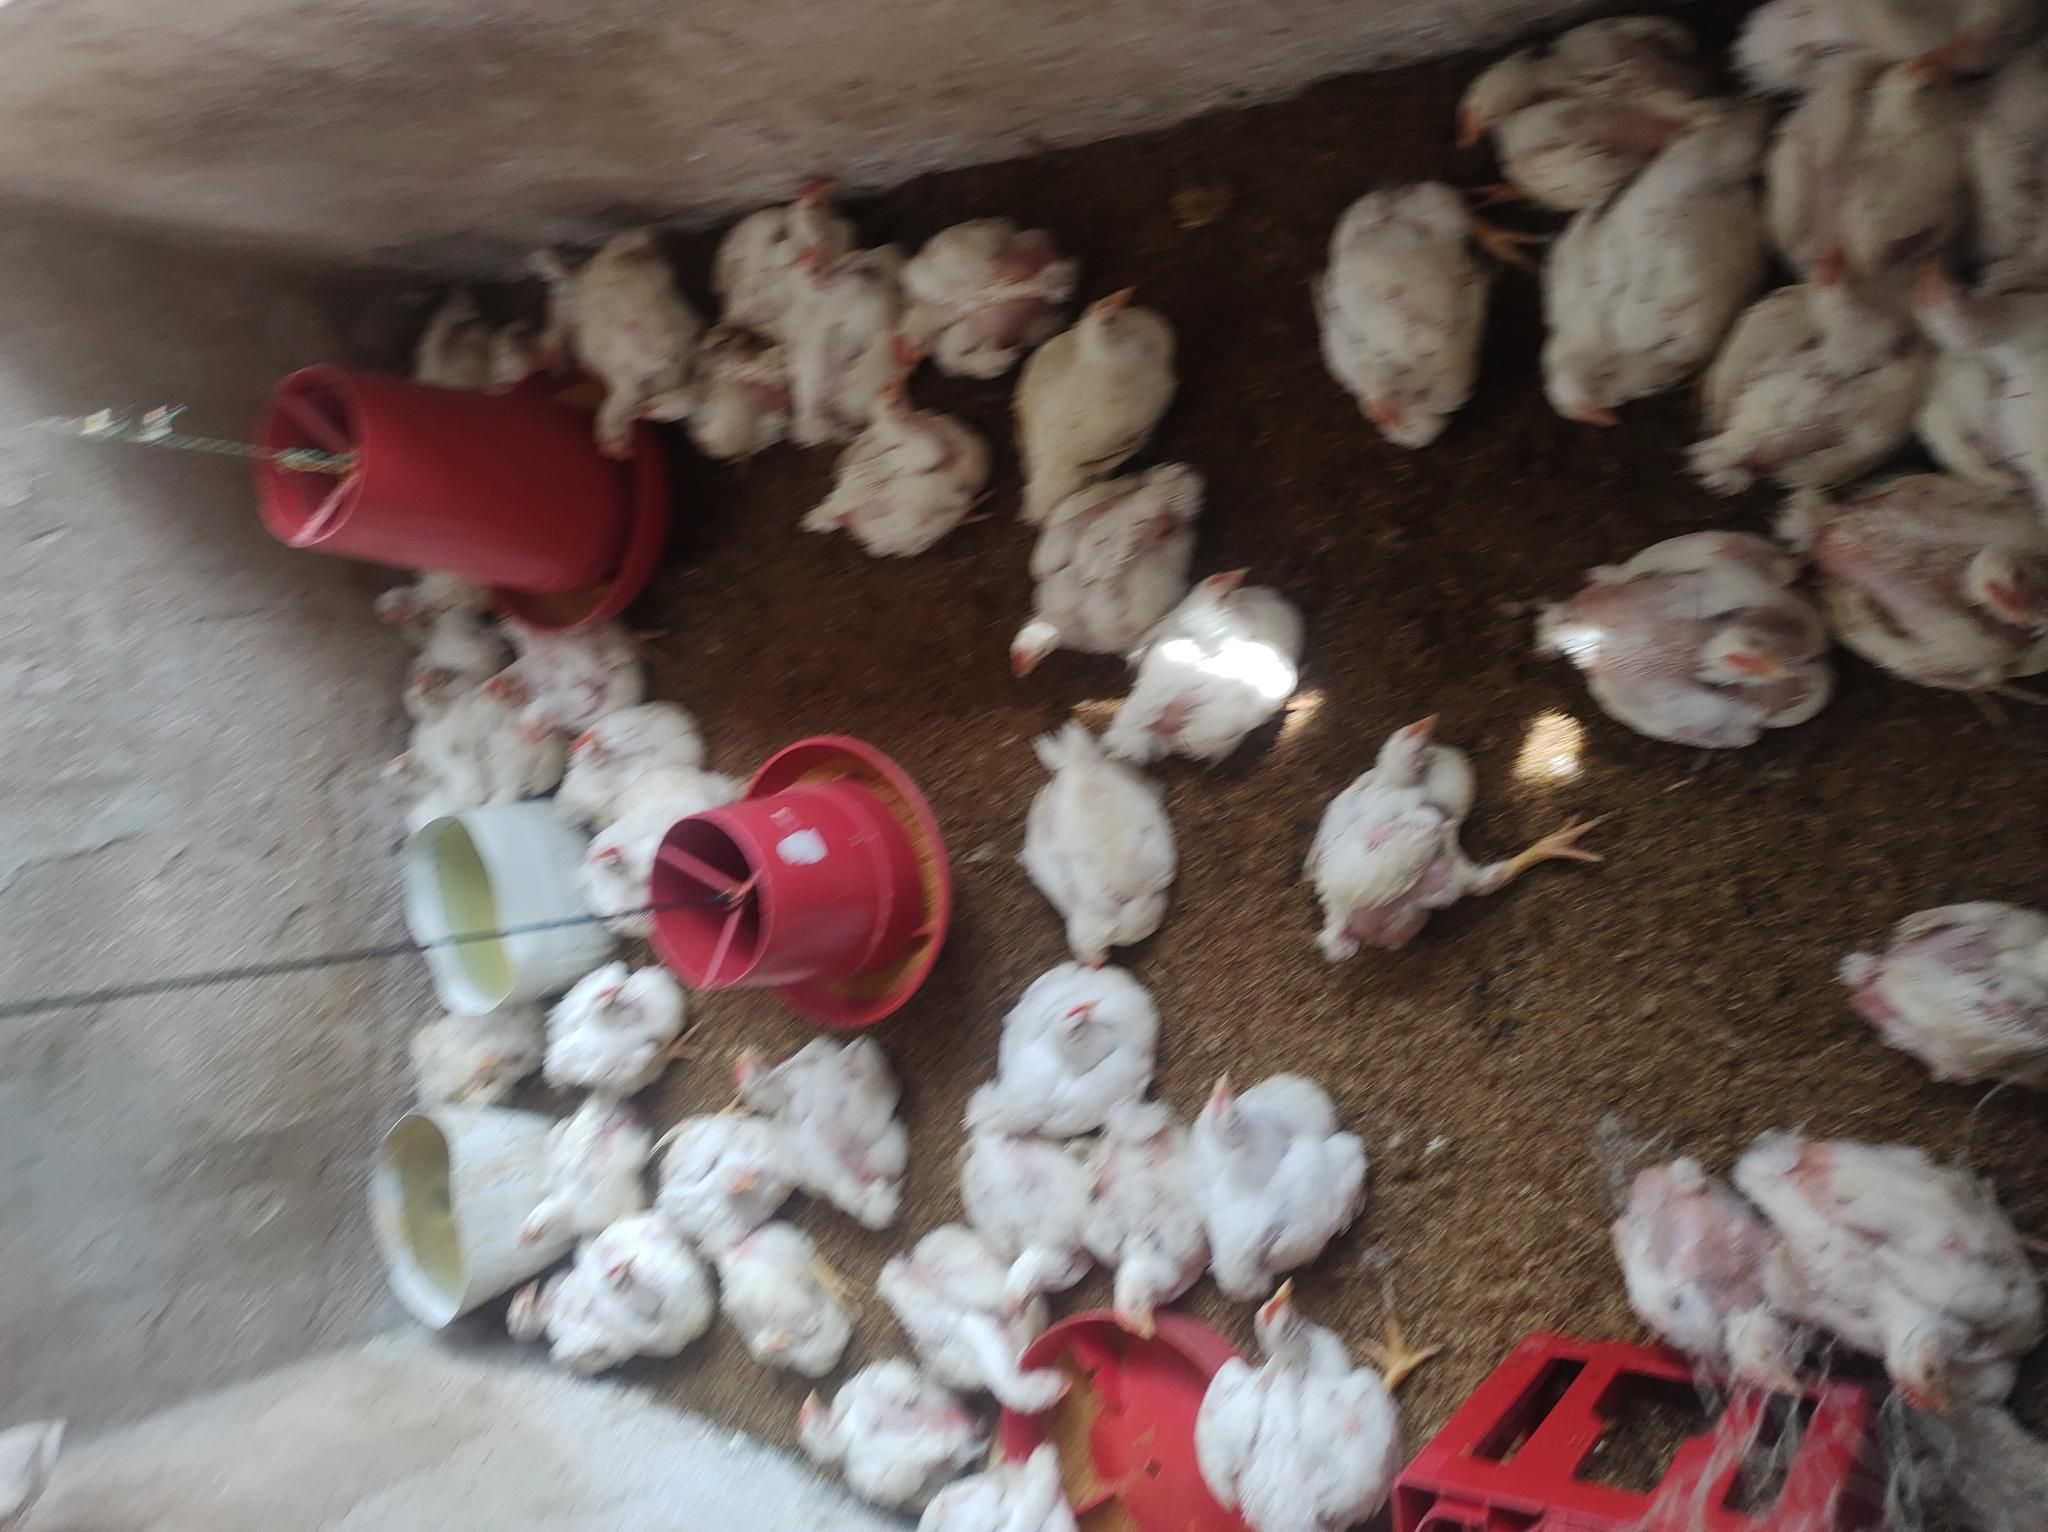Pollos: (1733, 1112, 2048, 1390), (1528, 526, 1824, 766), (1599, 1136, 1824, 1421), (1726, 34, 1971, 290), (1797, 463, 2048, 710), (1297, 711, 1528, 974), (1538, 101, 1717, 433), (964, 739, 1189, 974), (1445, 13, 1705, 204), (1672, 278, 1898, 494), (989, 278, 1182, 531), (1195, 1273, 1390, 1522), (1326, 175, 1498, 457), (997, 443, 1186, 682), (1847, 859, 2048, 1078), (1096, 563, 1326, 753), (883, 1223, 1108, 1408), (1195, 1052, 1371, 1279), (491, 1229, 732, 1394), (729, 1011, 923, 1209), (550, 222, 698, 463), (1881, 275, 2048, 488), (877, 191, 1060, 377), (967, 957, 1168, 1125), (796, 380, 980, 549), (1078, 1109, 1216, 1329), (1692, 0, 2048, 84), (775, 1361, 977, 1505), (751, 241, 899, 433), (491, 1106, 681, 1242), (695, 130, 853, 290), (516, 954, 685, 1102), (927, 1130, 1096, 1270), (566, 772, 750, 896), (652, 315, 792, 476), (513, 578, 639, 756), (713, 1220, 856, 1366), (1940, 74, 2048, 262), (544, 692, 698, 821), (923, 1445, 1115, 1532), (409, 998, 547, 1115), (389, 272, 497, 396), (644, 1139, 779, 1229), (389, 674, 507, 748), (376, 554, 510, 618), (492, 1273, 566, 1352), (529, 204, 584, 306), (470, 674, 553, 711)
